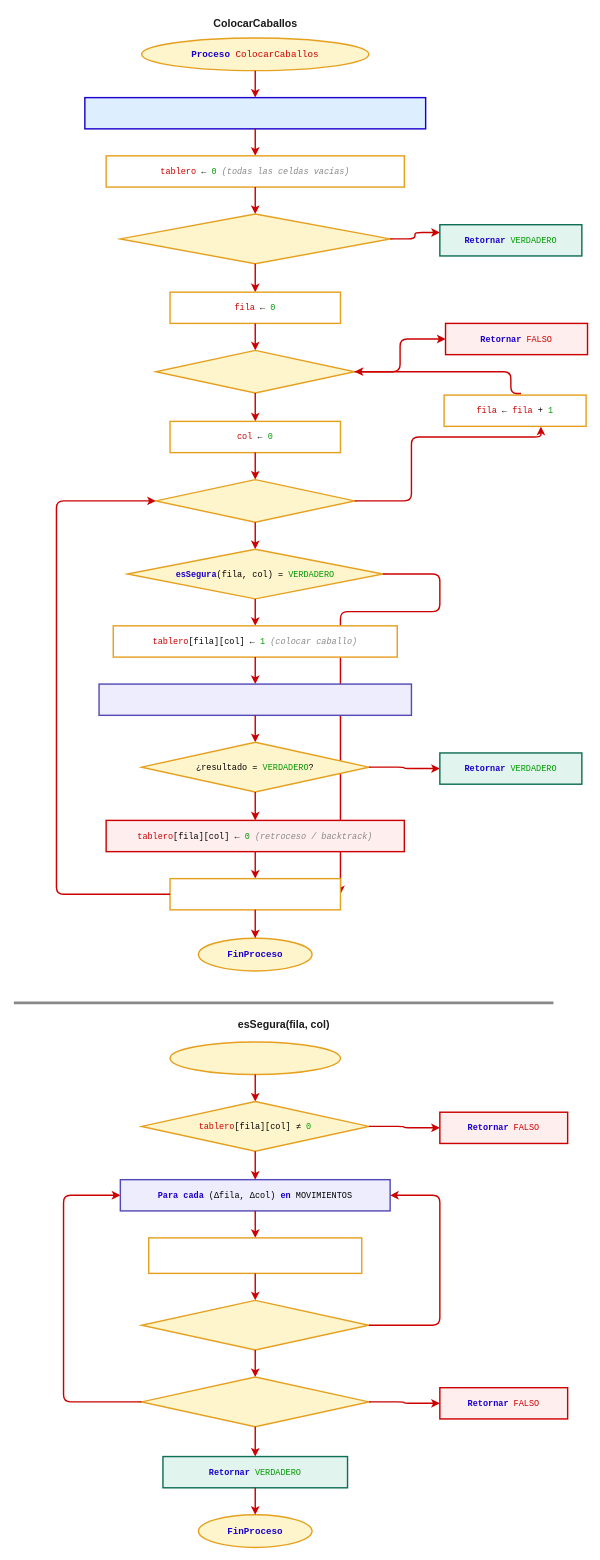
The diagram is 600 pixels wide and 1560 high, and some of its shapes have lost their labels. Each missing label, with the box of its shape:
0 ≤ fa < 8 Y 0 ≤ ca < 8: (141, 1299, 369, 1350)
caballosColocados = 8: (119, 213, 390, 264)
col < 8: (155, 479, 355, 523)
col ← col + 1: (169, 878, 341, 910)
Definir tablero [8][8], caballosColocados Como Entero: (84, 97, 426, 129)
fa ← fila + Δfila ca ← col + Δcol: (148, 1237, 362, 1274)
fila < 8: (155, 349, 355, 393)
Llamar ColocarCaballos (caballosColocados + 1): (98, 683, 412, 716)
Proceso esSegura: (169, 1041, 341, 1075)
tablero [fa][ca] = 1: (141, 1376, 369, 1427)
